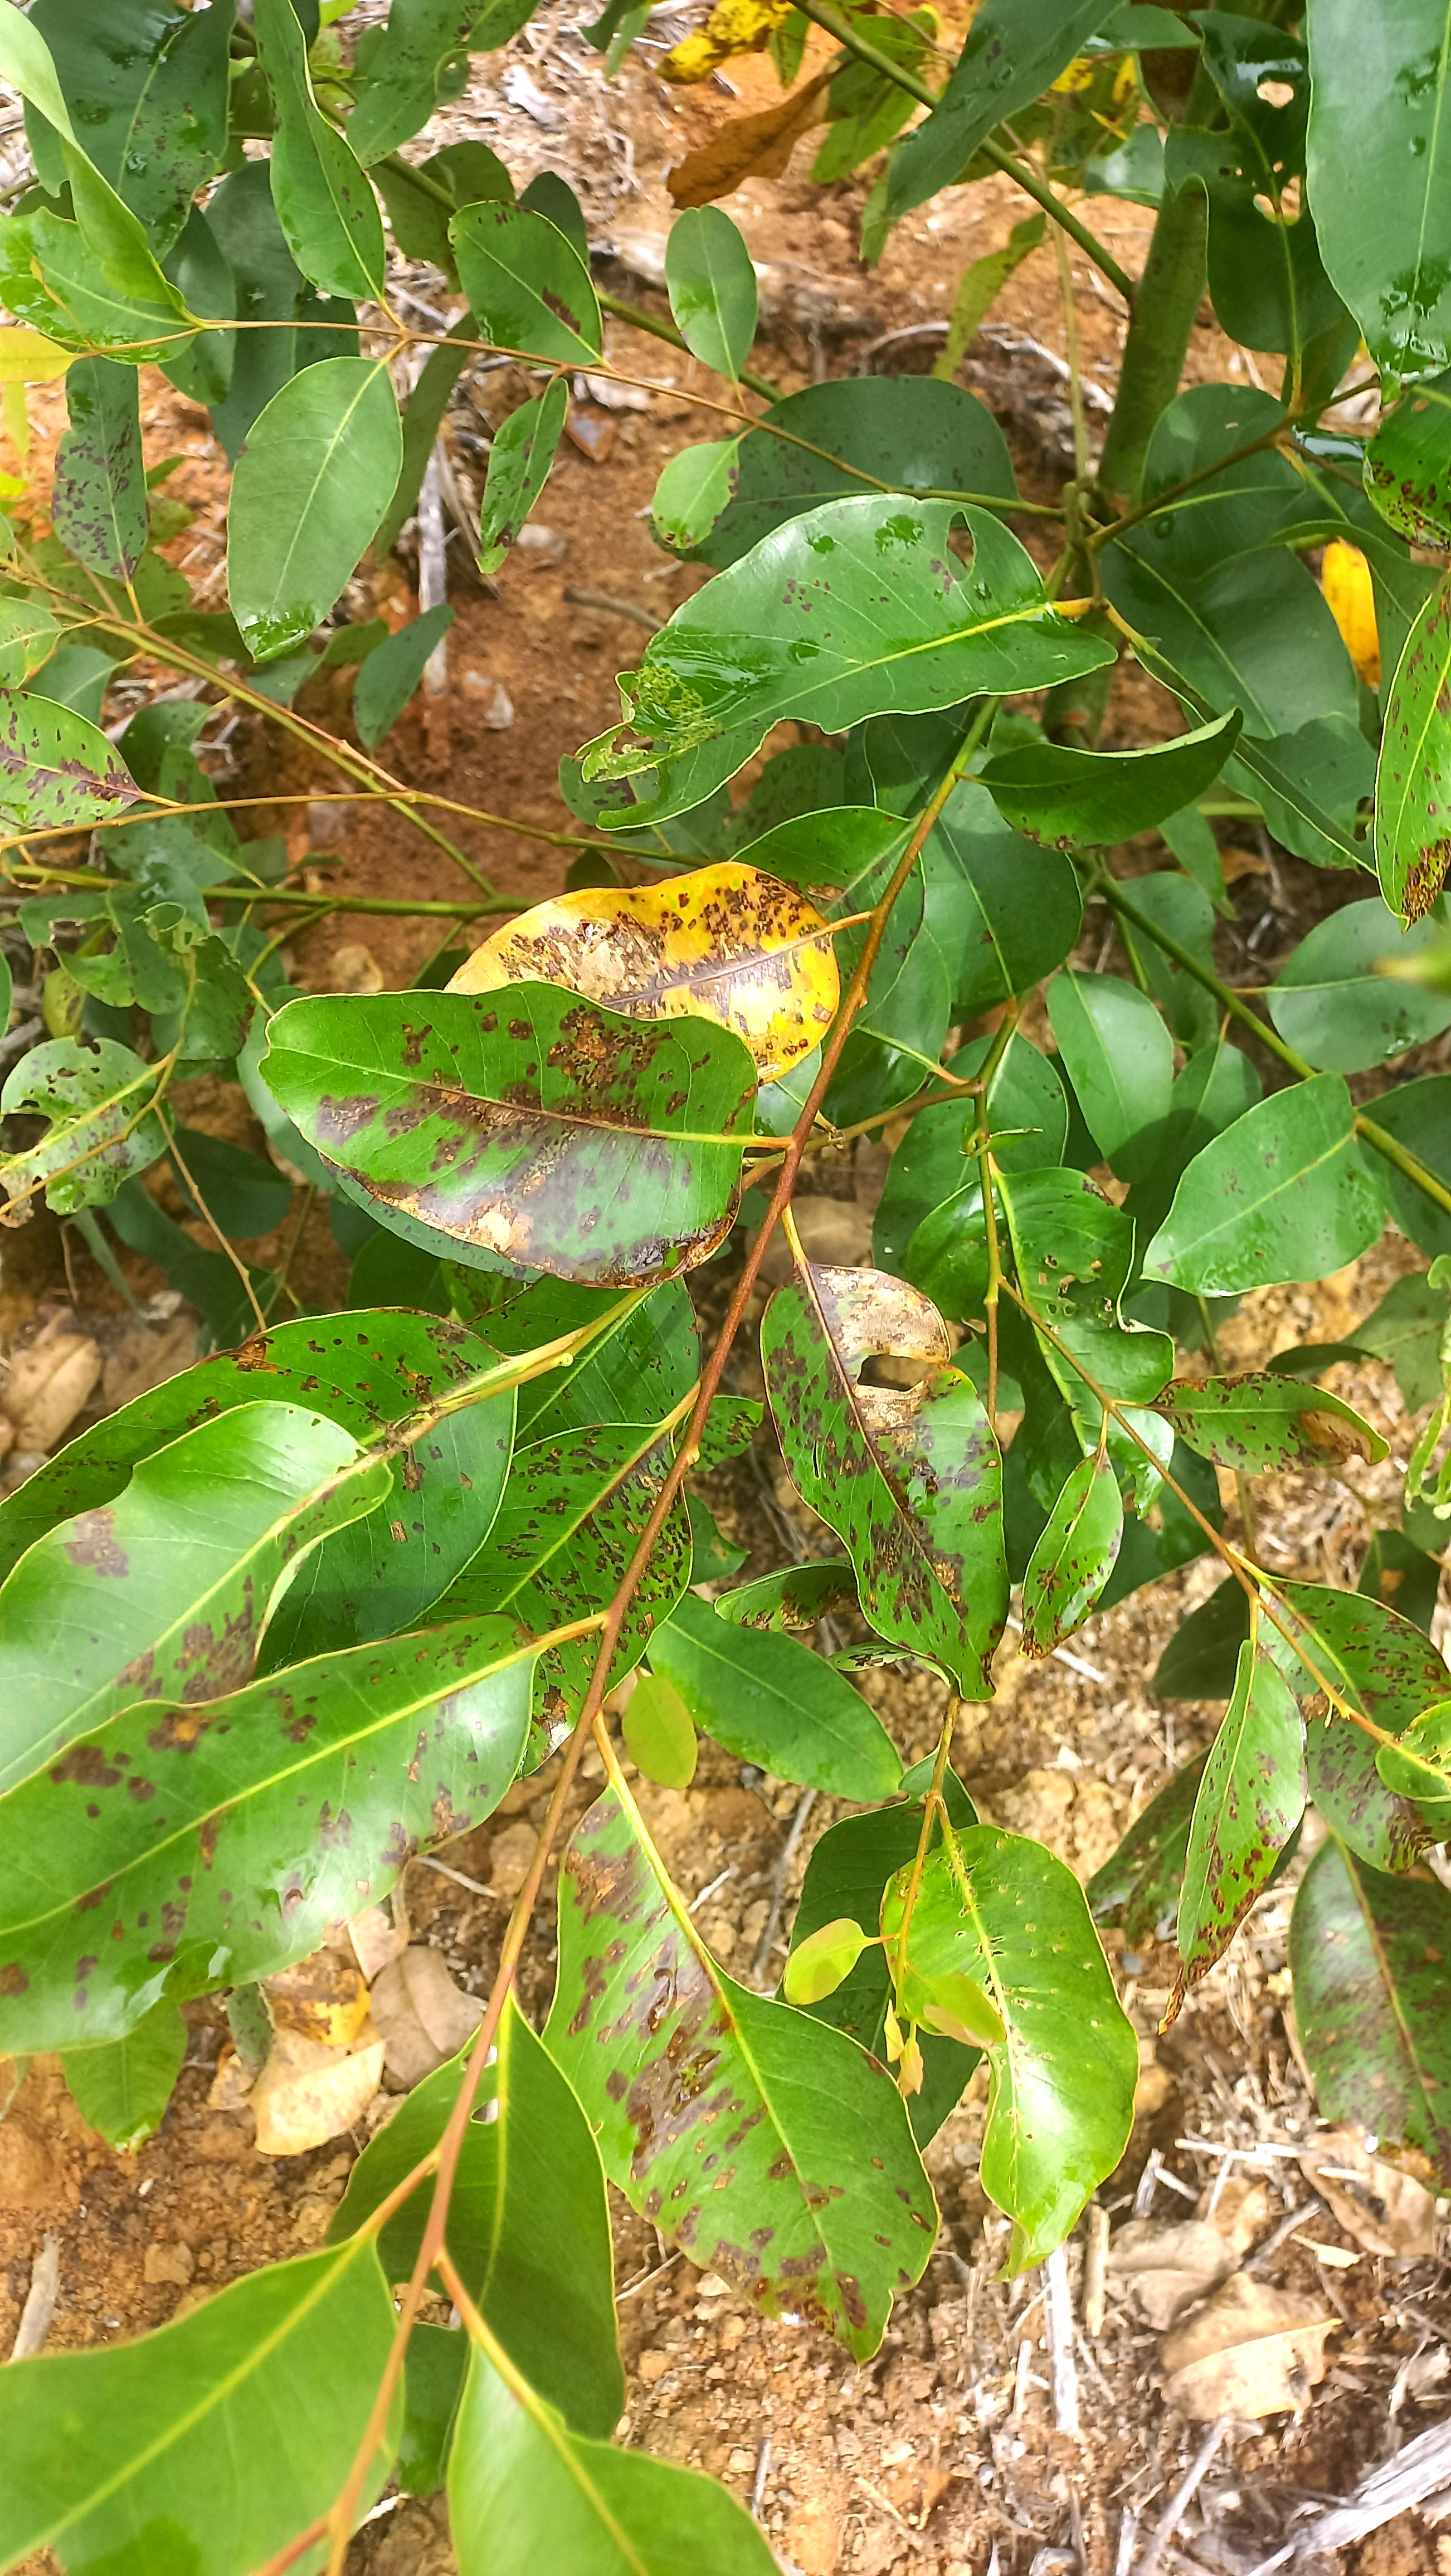Xanthomonas: (343, 1035, 766, 1267), (756, 1292, 1044, 1617), (218, 1300, 499, 1511), (527, 1410, 713, 1660), (513, 874, 830, 1019)
